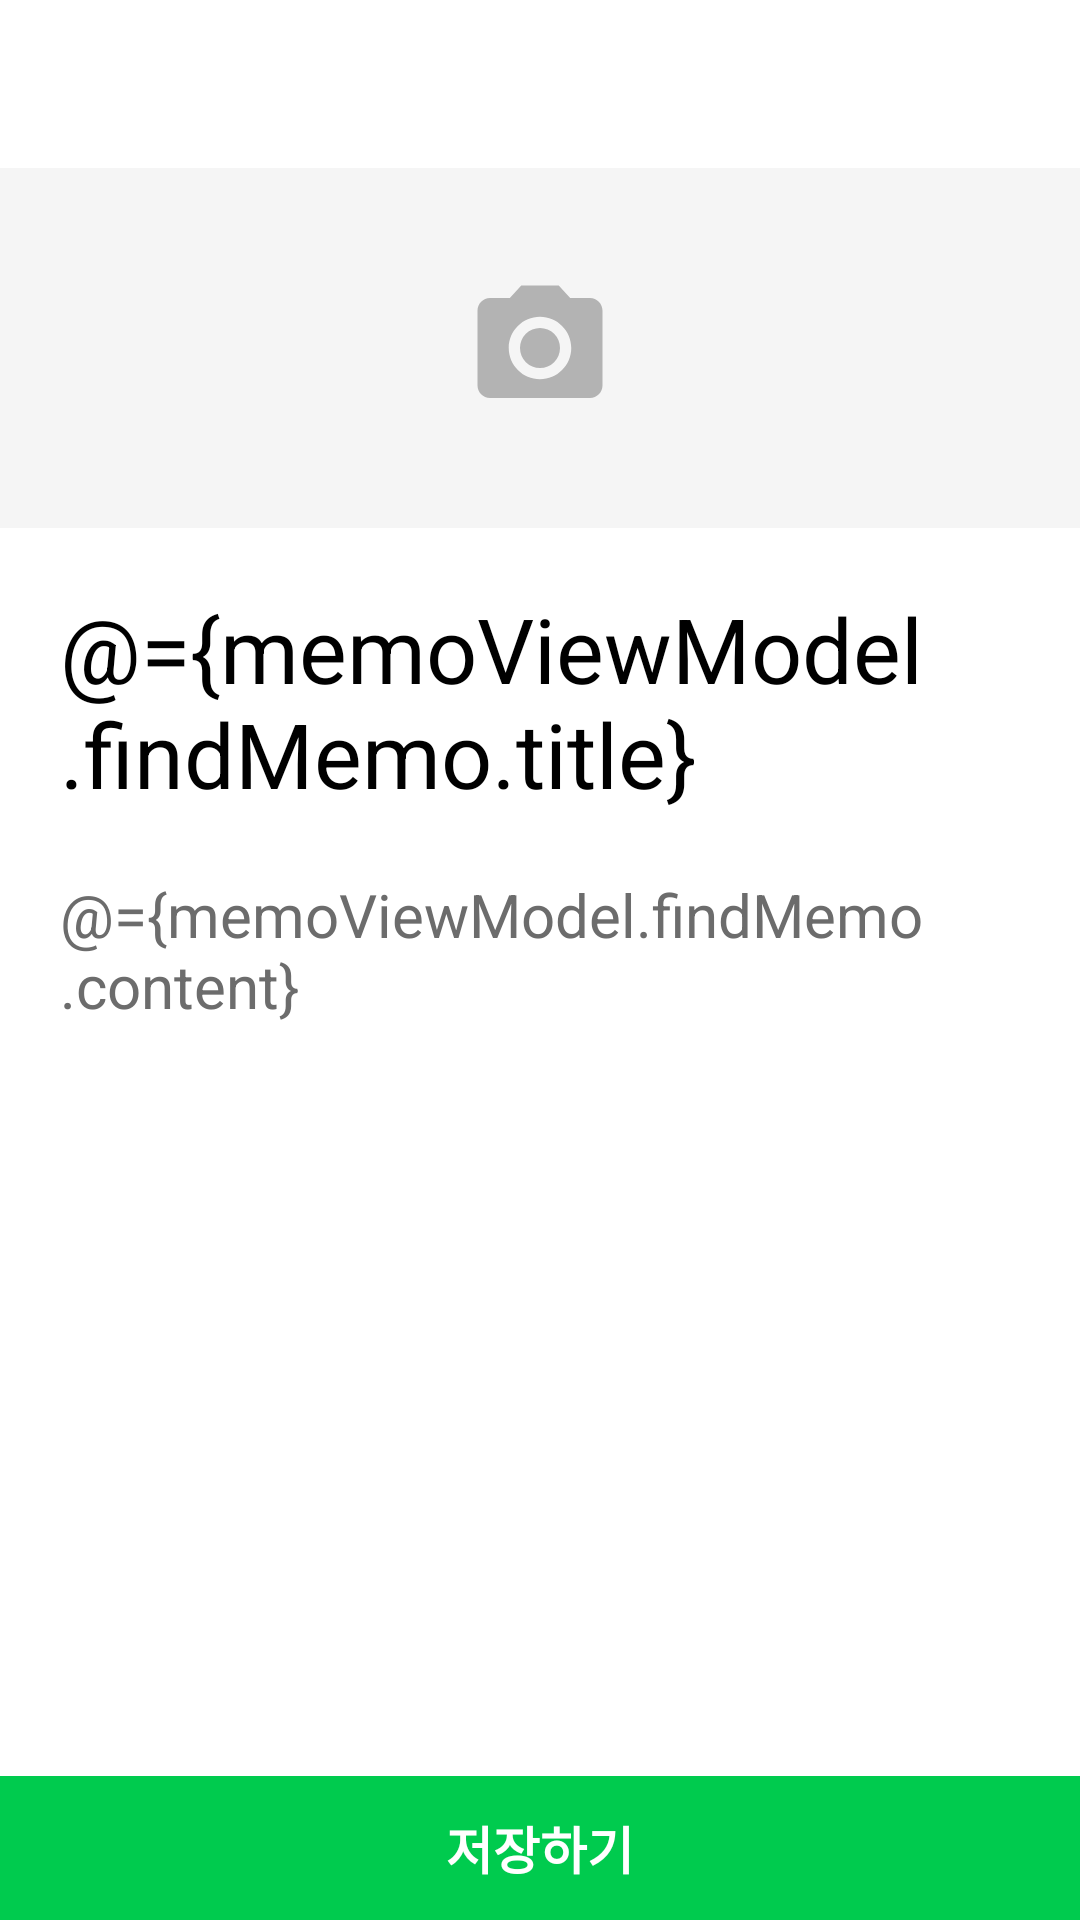

Named icons in this screenshot (1080w x 1920h) and their centers, (x,y):
photo camera: (540,341)
